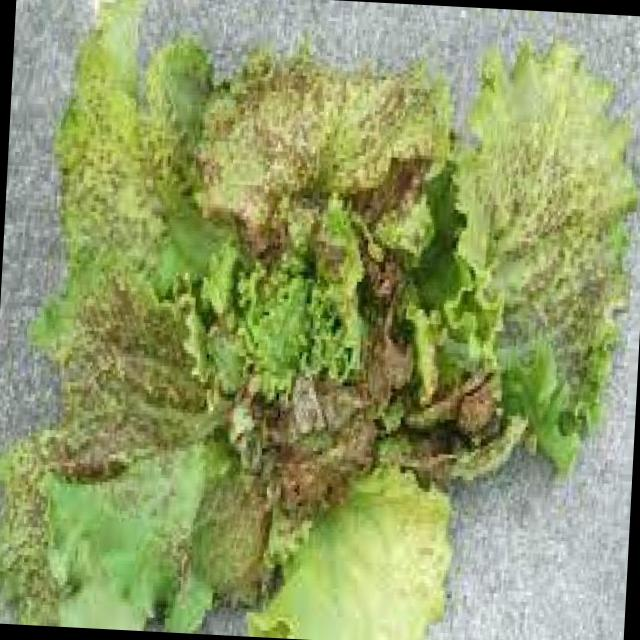Powdery_Mildew: (160, 112, 446, 532)
